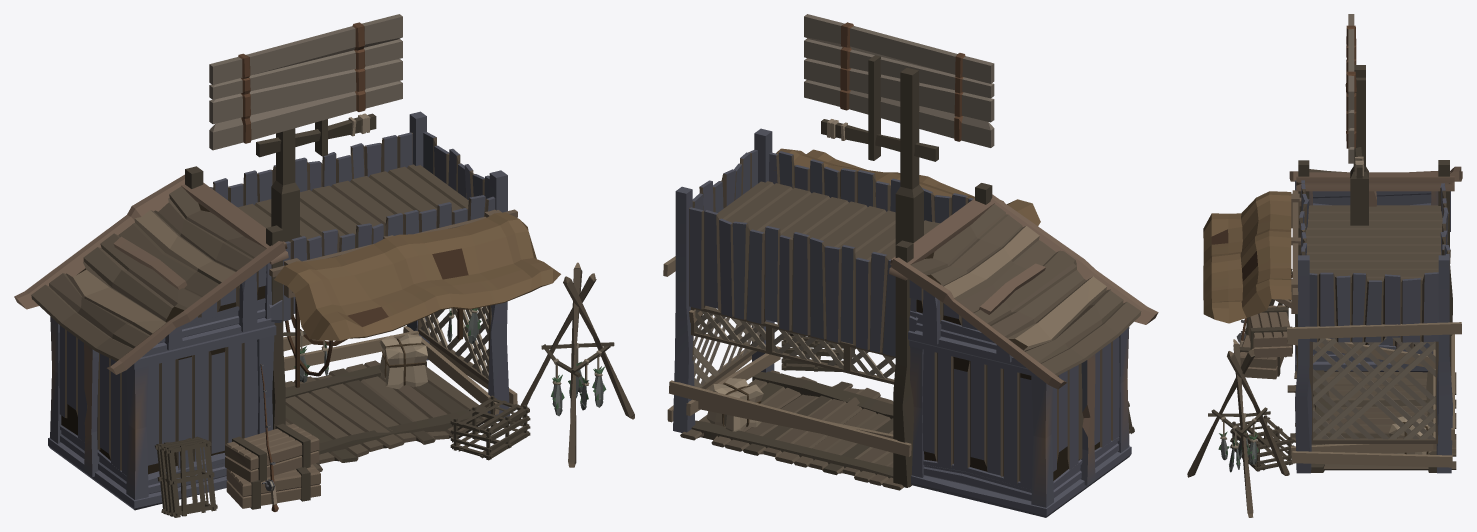
Rendered from SM_Bld_Shop_03.glb.
3 renders of one model, left to right at view 1: azimuth 30°, elevation 25°; view 2: azimuth 150°, elevation 25°; view 3: azimuth 270°, elevation 25°, orthographic. The views are drawn at different scales.
Parts seen in each view (by area): view 1: SM_Bld_Shop_03; view 2: SM_Bld_Shop_03; view 3: SM_Bld_Shop_03.
Part boxes in pixels (x1,y1,x2,y2): SM_Bld_Shop_03: [14, 14, 634, 517]; SM_Bld_Shop_03: [663, 14, 1158, 517]; SM_Bld_Shop_03: [1187, 14, 1462, 517].
Size of the model in its own units: 0.0873 by 0.0683 by 0.0478.
